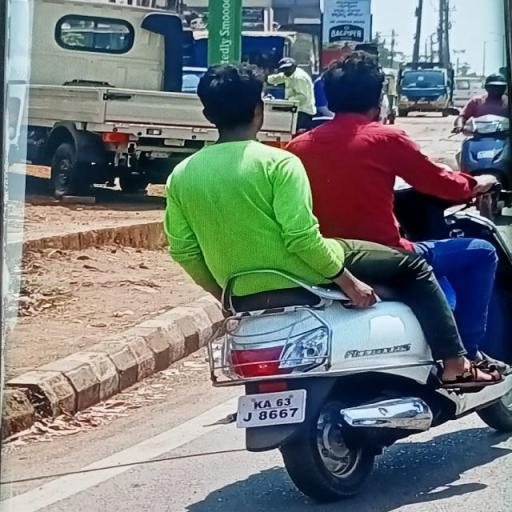bike: (158, 36, 509, 503)
numberplate: (232, 389, 308, 431)
withouthelmet: (197, 62, 266, 136), (328, 54, 384, 112)
